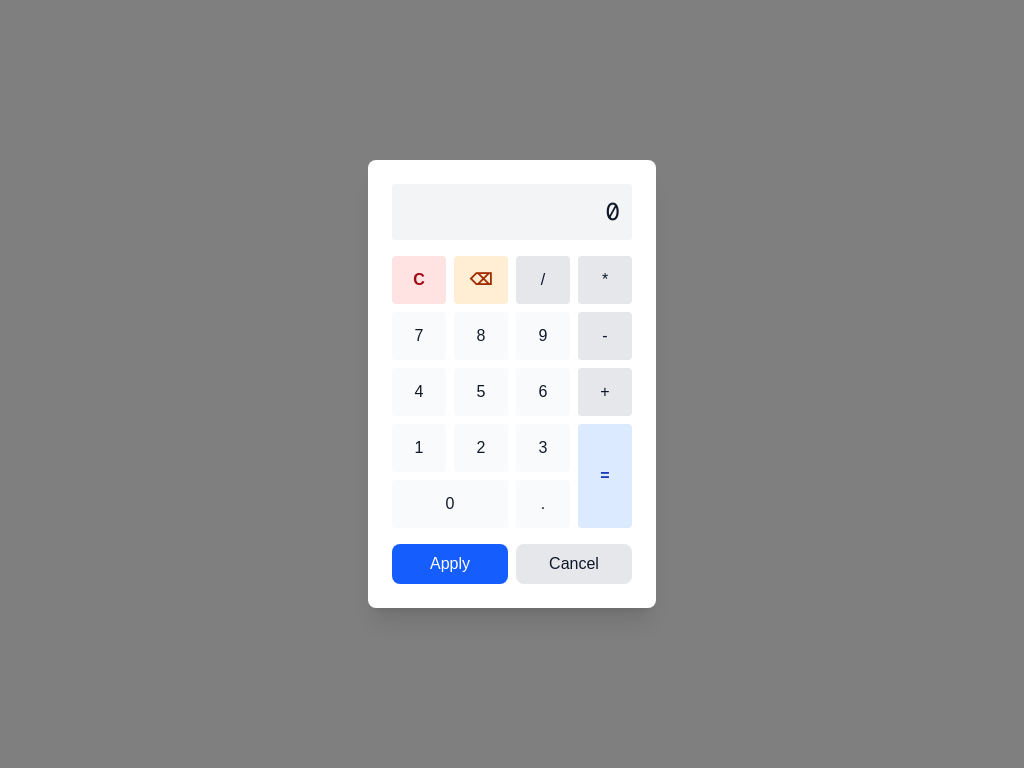
Scenario: Calculator Component › handles calculation errors gracefully (Syntax Error on =)
Click the button "1". click: x=419, y=448
box: [392,424,446,472]
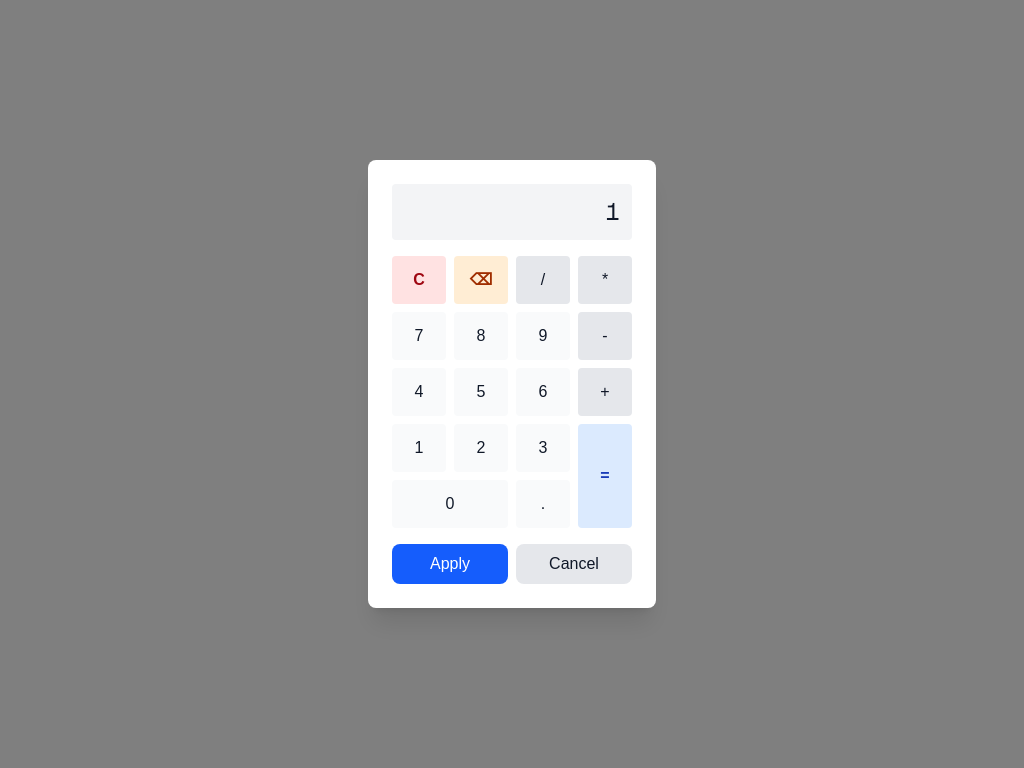
Click the button "+". click: x=605, y=392
box: [578,368,632,416]
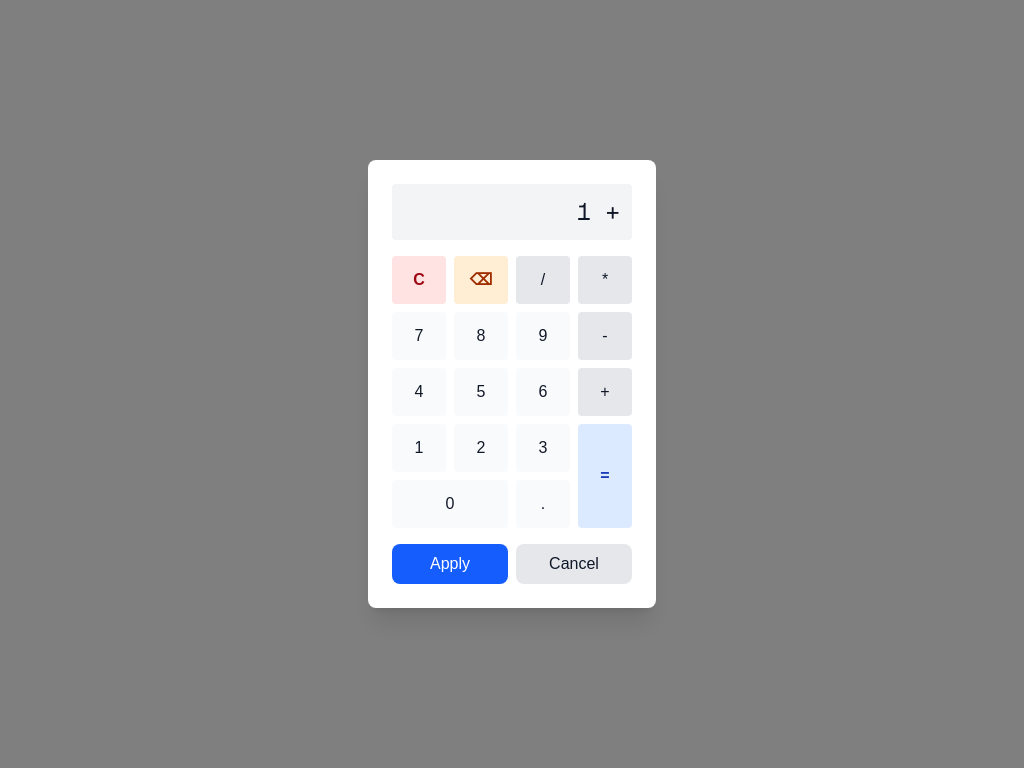
Click the button "*". click: x=605, y=280
box: [578,256,632,304]
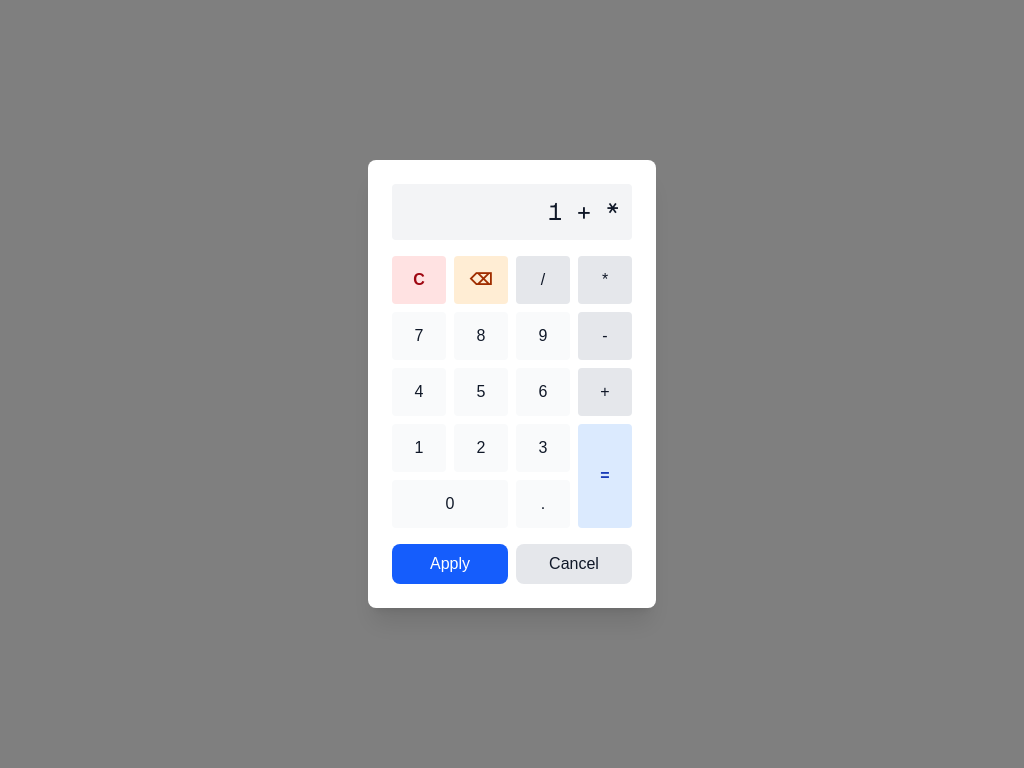
Click the button "=". click: x=605, y=476
box: [578,424,632,528]
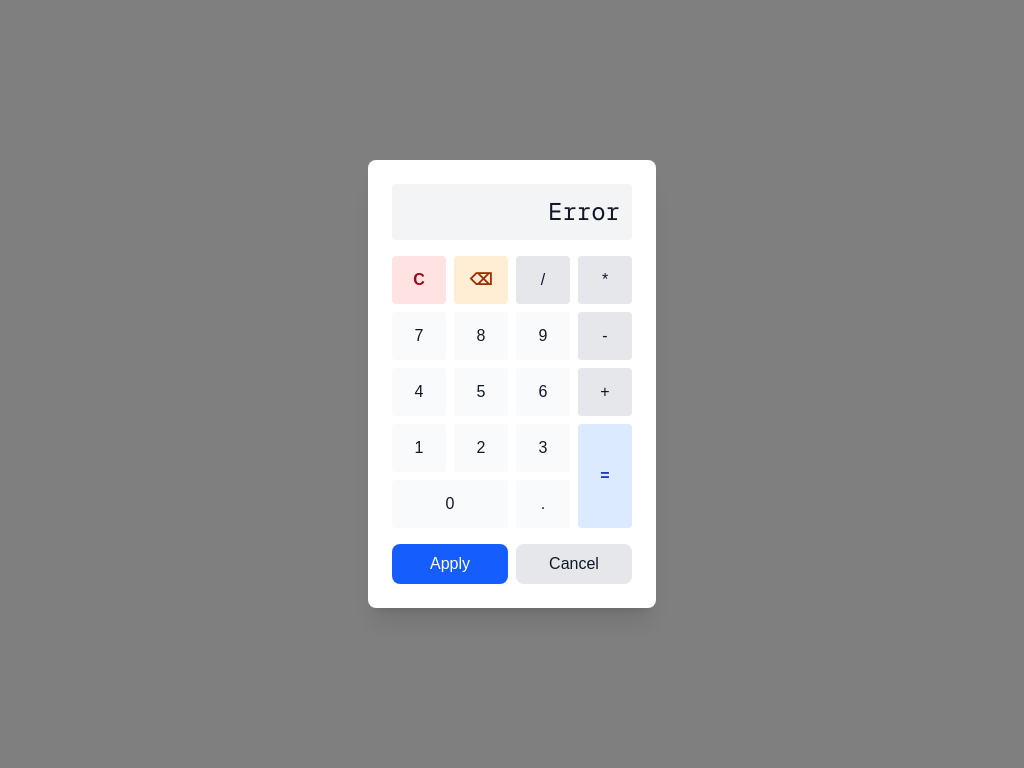
Expected: the text "Error" is shown, [392,184,632,240]
